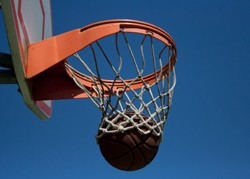MadeBasket: (64, 19, 178, 171)
